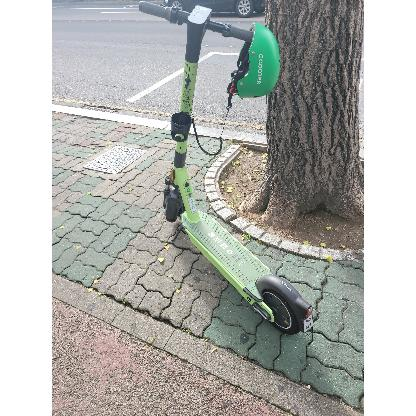bike: (140, 0, 314, 335)
car: (162, 0, 269, 18)
